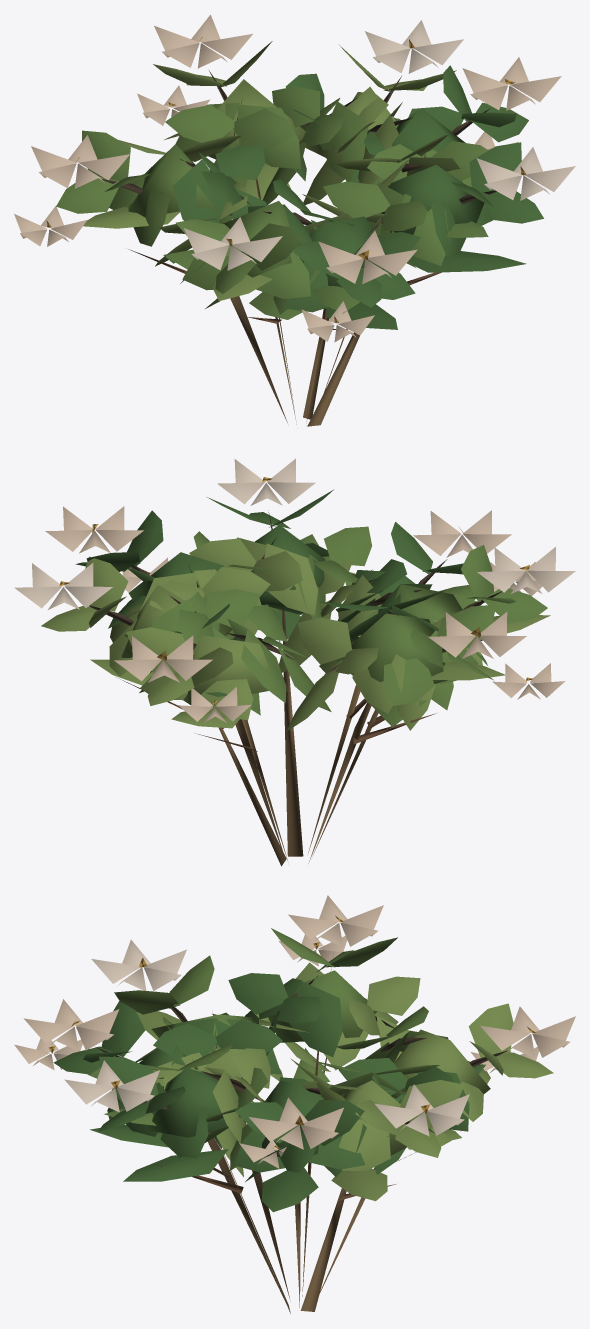
File: woodland_bush_flowering.glb
3 views of the same model, one above another, from view 1: azimuth 30°, elevation 25°; view 2: azimuth 150°, elevation 25°; view 3: azimuth 270°, elevation 25° (orthographic). The views are drawn at different scales.
Visible parts, largest first — view 1: body; view 2: body; view 3: body.
Part boxes in pixels (bbox=[...]): body: bbox=[14, 15, 575, 426]; body: bbox=[14, 458, 575, 866]; body: bbox=[14, 895, 575, 1313].
Bounding box in the file's own units: 1.55 × 0.8575 × 1.47.
